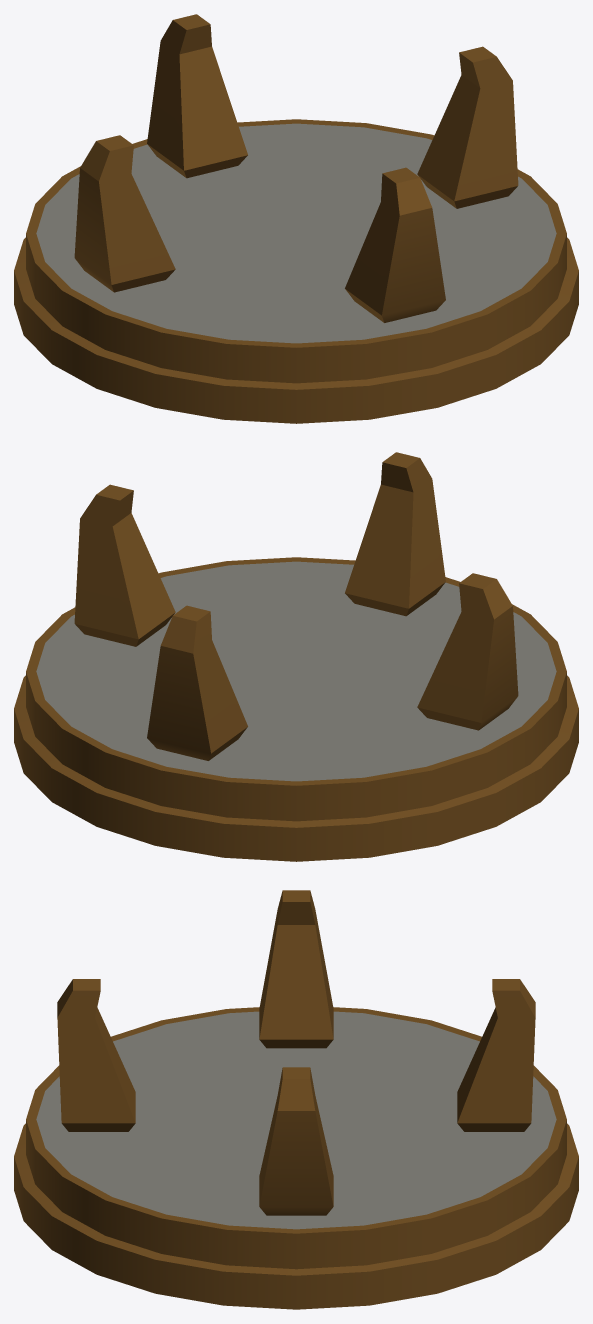
Rendered from animalPillarRotator.fbx.
3 views of the same model, one above another, from view 1: azimuth 30°, elevation 25°; view 2: azimuth 150°, elevation 25°; view 3: azimuth 270°, elevation 25° (orthographic).
Visible parts, largest first — view 1: Animal Pillar Rotator; view 2: Animal Pillar Rotator; view 3: Animal Pillar Rotator.
Part boxes in pixels (x1=…): Animal Pillar Rotator: x1=14, y1=14, x2=578, y2=423; Animal Pillar Rotator: x1=14, y1=452, x2=578, y2=861; Animal Pillar Rotator: x1=14, y1=890, x2=578, y2=1309.
Bounding box in the file's own units: 74.25 × 74.25 × 29.82.
